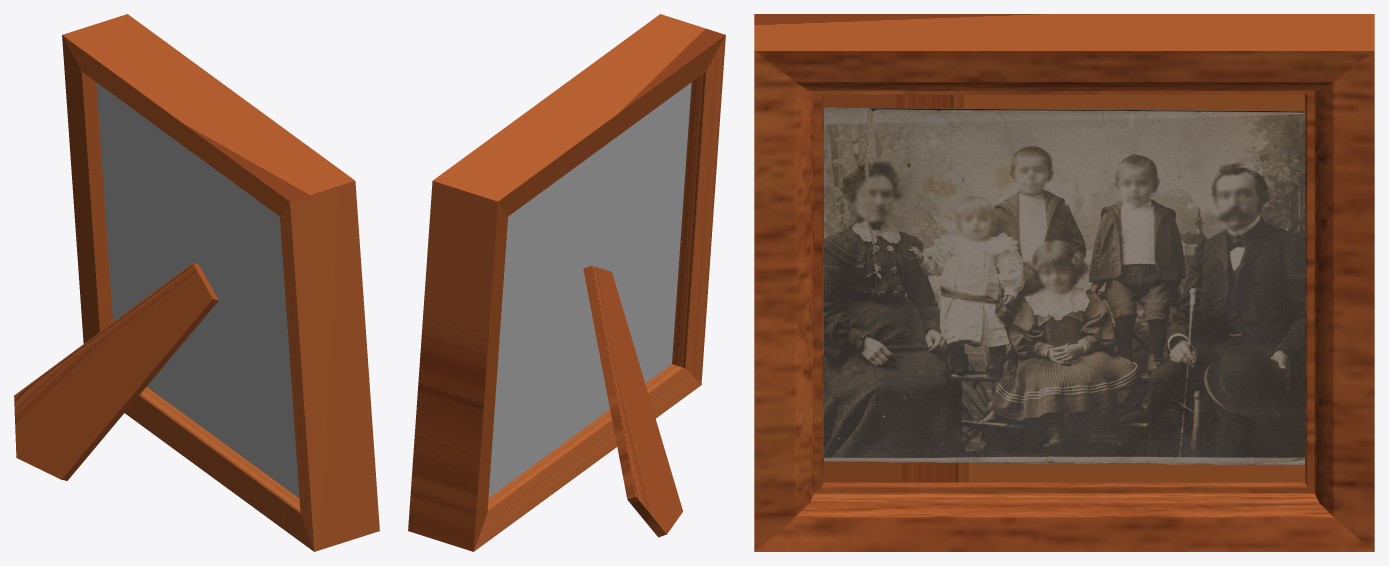
Rendered from Picture Frame.fbx.
3 renders of one model, left to right at view 1: azimuth 30°, elevation 25°; view 2: azimuth 150°, elevation 25°; view 3: azimuth 270°, elevation 25°, orthographic. The views are drawn at different scales.
Visible parts, largest first — view 1: pCube1, pCube2; view 2: pCube1, pCube2; view 3: pPlane1, pCube1.
Part boxes in pixels (x1,y1,x2,y2): pCube1: (62, 14, 379, 551); pCube2: (14, 263, 218, 480); pCube1: (408, 14, 725, 551); pCube2: (583, 265, 682, 537); pPlane1: (824, 107, 1304, 464); pCube1: (754, 14, 1374, 551).
Bounding box in the file's own units: 5.07 × 8.92 × 10.13.
Materials: 4 (3 with a texture image).
